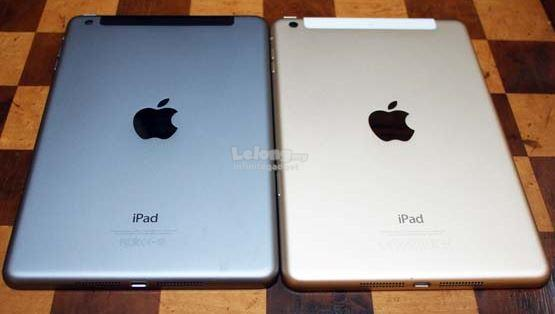apple: (113, 87, 203, 151), (358, 91, 428, 157)
